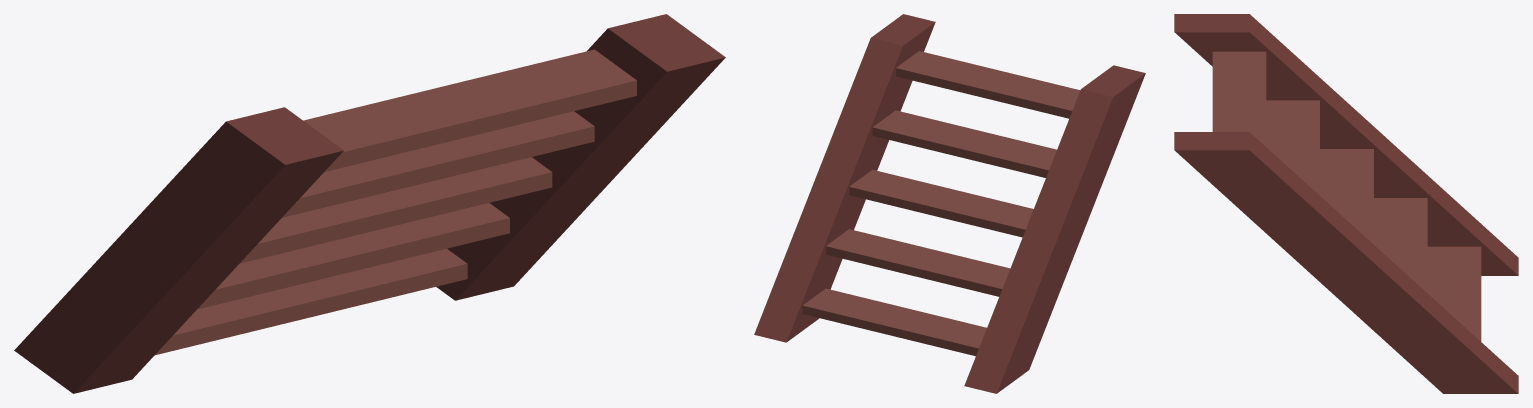
File: Stairs_Medium.fbx
3 views of the same model, side by side, from view 1: azimuth 30°, elevation 25°; view 2: azimuth 150°, elevation 25°; view 3: azimuth 270°, elevation 25° (orthographic). The views are drawn at different scales.
Visible parts, largest first — view 1: Stairs_Medium; view 2: Stairs_Medium; view 3: Stairs_Medium.
Boxes of the visible parts, box(x1,y1,x2,y2) form: Stairs_Medium: box(14, 14, 725, 393); Stairs_Medium: box(754, 14, 1145, 393); Stairs_Medium: box(1174, 14, 1518, 393).
Size of the model in its own units: 1.2 by 1.28 by 1.
